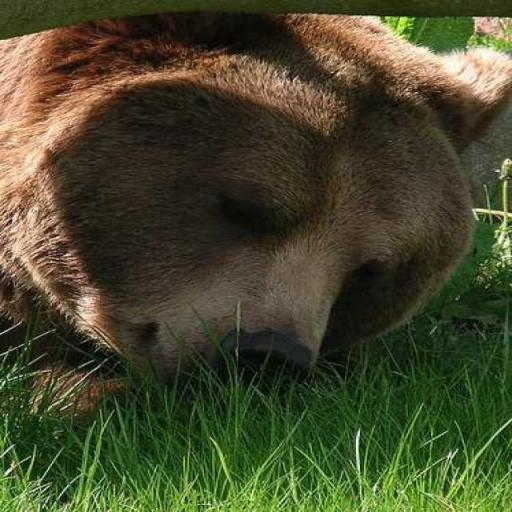Bear: (0, 7, 510, 422)
